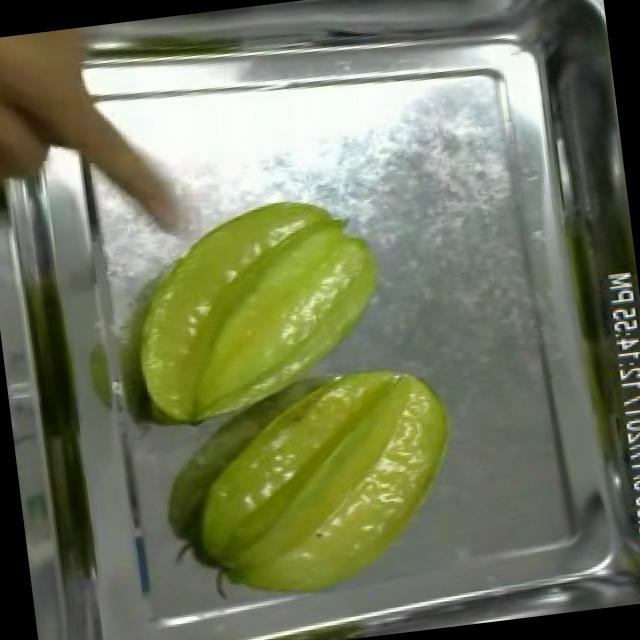fruit: (160, 344, 483, 622), (110, 182, 404, 447), (0, 24, 122, 214)
